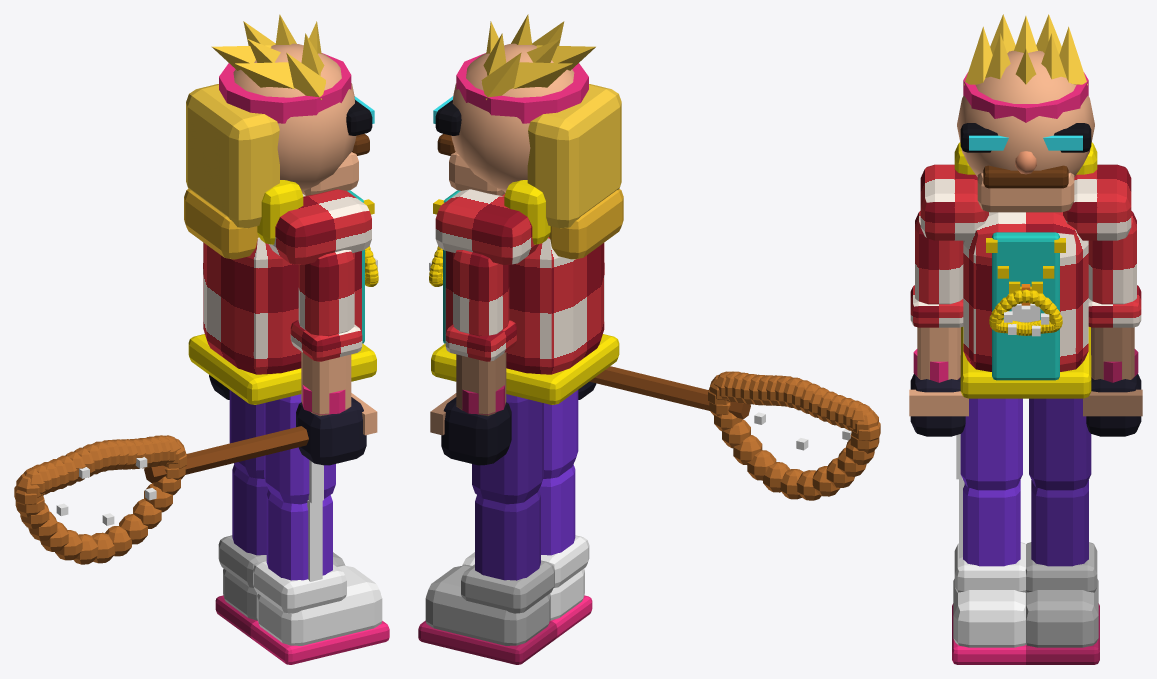
Rendered from hero.glb.
3 renders of one model, left to right at view 1: azimuth 30°, elevation 25°; view 2: azimuth 150°, elevation 25°; view 3: azimuth 270°, elevation 25°, orthographic.
Parts seen in each view (by area): view 1: p_rbox.047, p_rbox.056, p_sph.213, p_rbox.049, p_rbox.033, p_rbox.031, p_rbox.030, p_rbox.052, p_rbox.029, p_rbox.037, p_cyl.005, p_rbox.035 (+21 smaller); view 2: p_rbox.047, p_rbox.056, p_sph.213, p_rbox.050, p_rbox.042, p_rbox.039, p_rbox.038, p_rbox.040, p_rbox.052, p_rbox.046, p_cyl.005, p_rbox.044 (+15 smaller); view 3: p_rbox.047, p_sph.213, p_rbox.048, p_rbox.038, p_rbox.029, p_rbox.039, p_rbox.030, p_rbox.049, p_rbox.050, p_rbox.042, p_rbox.033, p_rbox.052 (+32 smaller).
Boxes of the visible parts, x1,y1,x2,y2 form: p_rbox.047: (203, 194, 361, 374); p_rbox.056: (186, 84, 279, 228); p_sph.213: (233, 43, 356, 192); p_rbox.049: (268, 189, 371, 264); p_rbox.033: (257, 565, 382, 645); p_rbox.031: (298, 250, 354, 336); p_rbox.030: (266, 489, 332, 580); p_rbox.052: (188, 334, 376, 404); p_rbox.029: (264, 394, 335, 504); p_rbox.037: (296, 397, 366, 465); p_cyl.005: (219, 53, 351, 123); p_rbox.035: (253, 560, 346, 613); p_rbox.047: (445, 194, 604, 374); p_rbox.056: (527, 84, 621, 228); p_sph.213: (451, 43, 574, 192); p_rbox.050: (435, 189, 538, 264); p_rbox.042: (425, 565, 550, 645); p_rbox.039: (475, 489, 540, 580); p_rbox.038: (472, 394, 543, 504); p_rbox.040: (453, 250, 509, 336); p_rbox.052: (431, 334, 619, 404); p_rbox.046: (441, 397, 511, 465); p_cyl.005: (456, 53, 588, 123); p_rbox.044: (461, 560, 554, 613); p_rbox.047: (963, 212, 1088, 371); p_sph.213: (957, 50, 1094, 176); p_rbox.048: (992, 232, 1059, 380); p_rbox.038: (1029, 398, 1091, 490); p_rbox.029: (960, 398, 1022, 490); p_rbox.039: (1031, 480, 1088, 566); p_rbox.030: (963, 480, 1020, 566); p_rbox.049: (920, 164, 988, 240); p_rbox.050: (1063, 164, 1131, 240); p_rbox.042: (1026, 579, 1098, 647); p_rbox.033: (953, 579, 1025, 647); p_rbox.052: (960, 327, 1091, 398).
Size of the model in its own units: 1.59 by 2.34 by 0.82.
26 materials, 1 textured.
